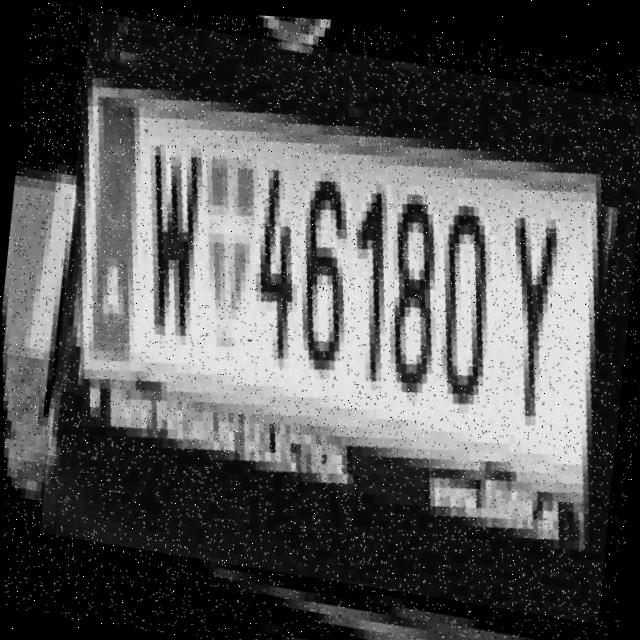LicensePlate: (35, 7, 640, 619)
